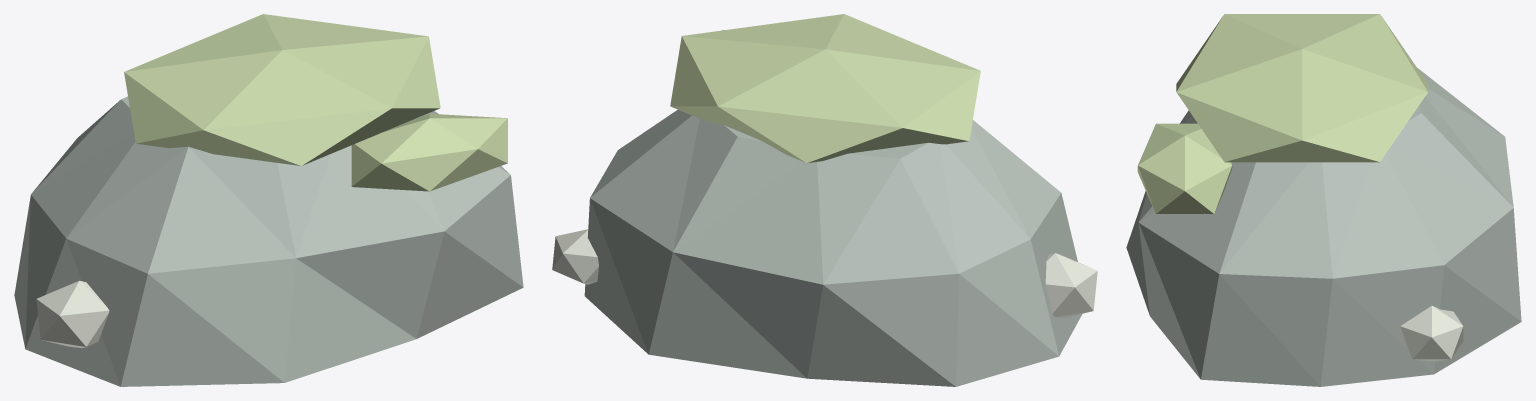
The model's file is world_rock_c.fbx.
3 views of the same model, side by side, from view 1: azimuth 30°, elevation 25°; view 2: azimuth 150°, elevation 25°; view 3: azimuth 270°, elevation 25° (orthographic). The views are drawn at different scales.
Parts seen in each view (by area): view 1: world_rock_c_mesh; view 2: world_rock_c_mesh; view 3: world_rock_c_mesh.
Boxes of the visible parts, x1,y1,x2,y2 form: world_rock_c_mesh: (14, 14, 523, 386); world_rock_c_mesh: (552, 14, 1097, 386); world_rock_c_mesh: (1126, 14, 1521, 386).
Size of the model in its own units: 0.8542 by 0.43 by 0.6406.
